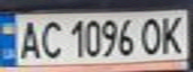0: (81, 16, 103, 57)
1: (63, 16, 84, 57)
6: (115, 16, 139, 57)
9: (100, 17, 121, 57)
A: (15, 18, 42, 61)
C: (36, 17, 66, 60)
K: (157, 12, 187, 55)
O: (136, 15, 166, 56)
